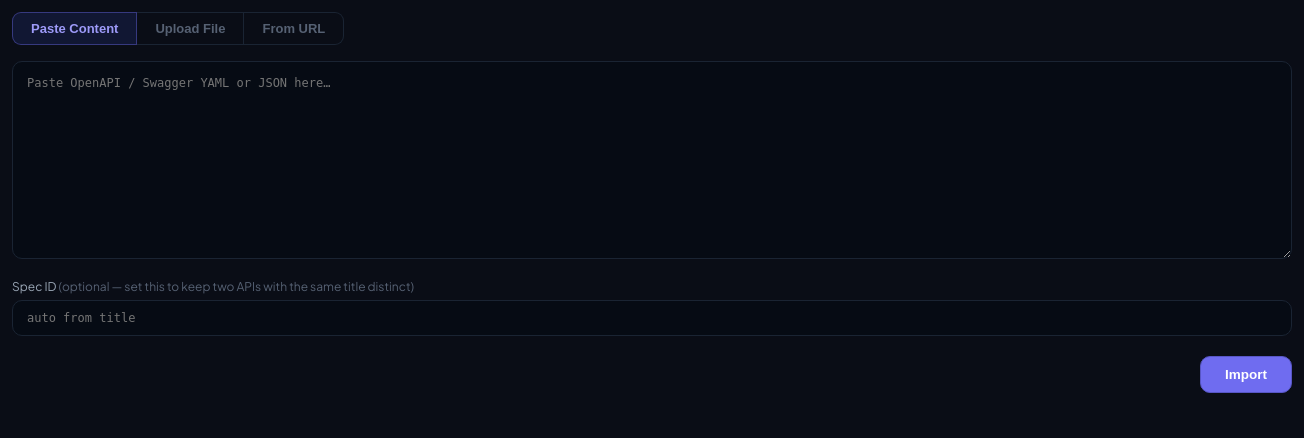
OpenApiImporter › submit_with_empty_content_shows_error
Click the button "Import". click: x=1246, y=374
box: [1200, 356, 1292, 393]
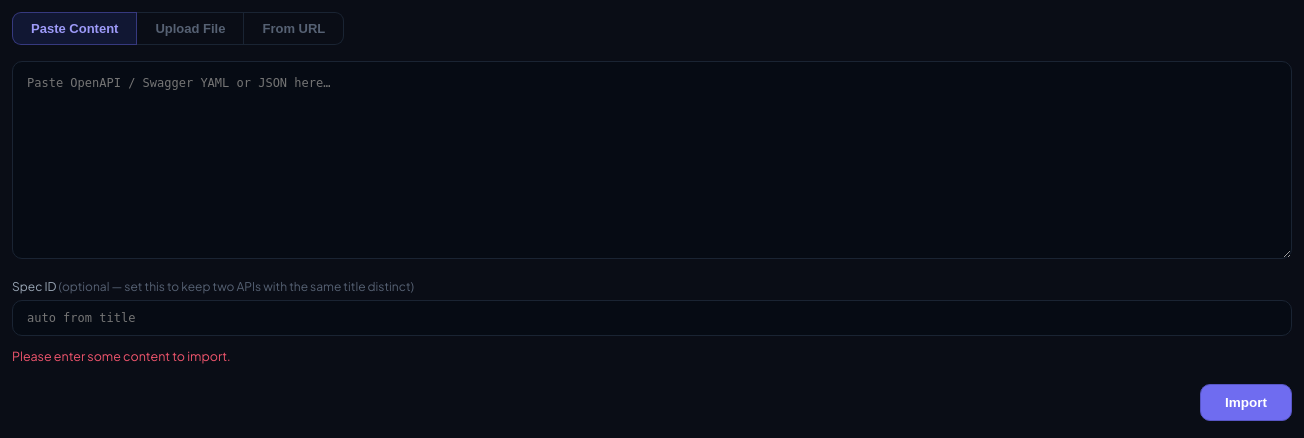
Check: the message shows "content", box [12, 348, 231, 364]
